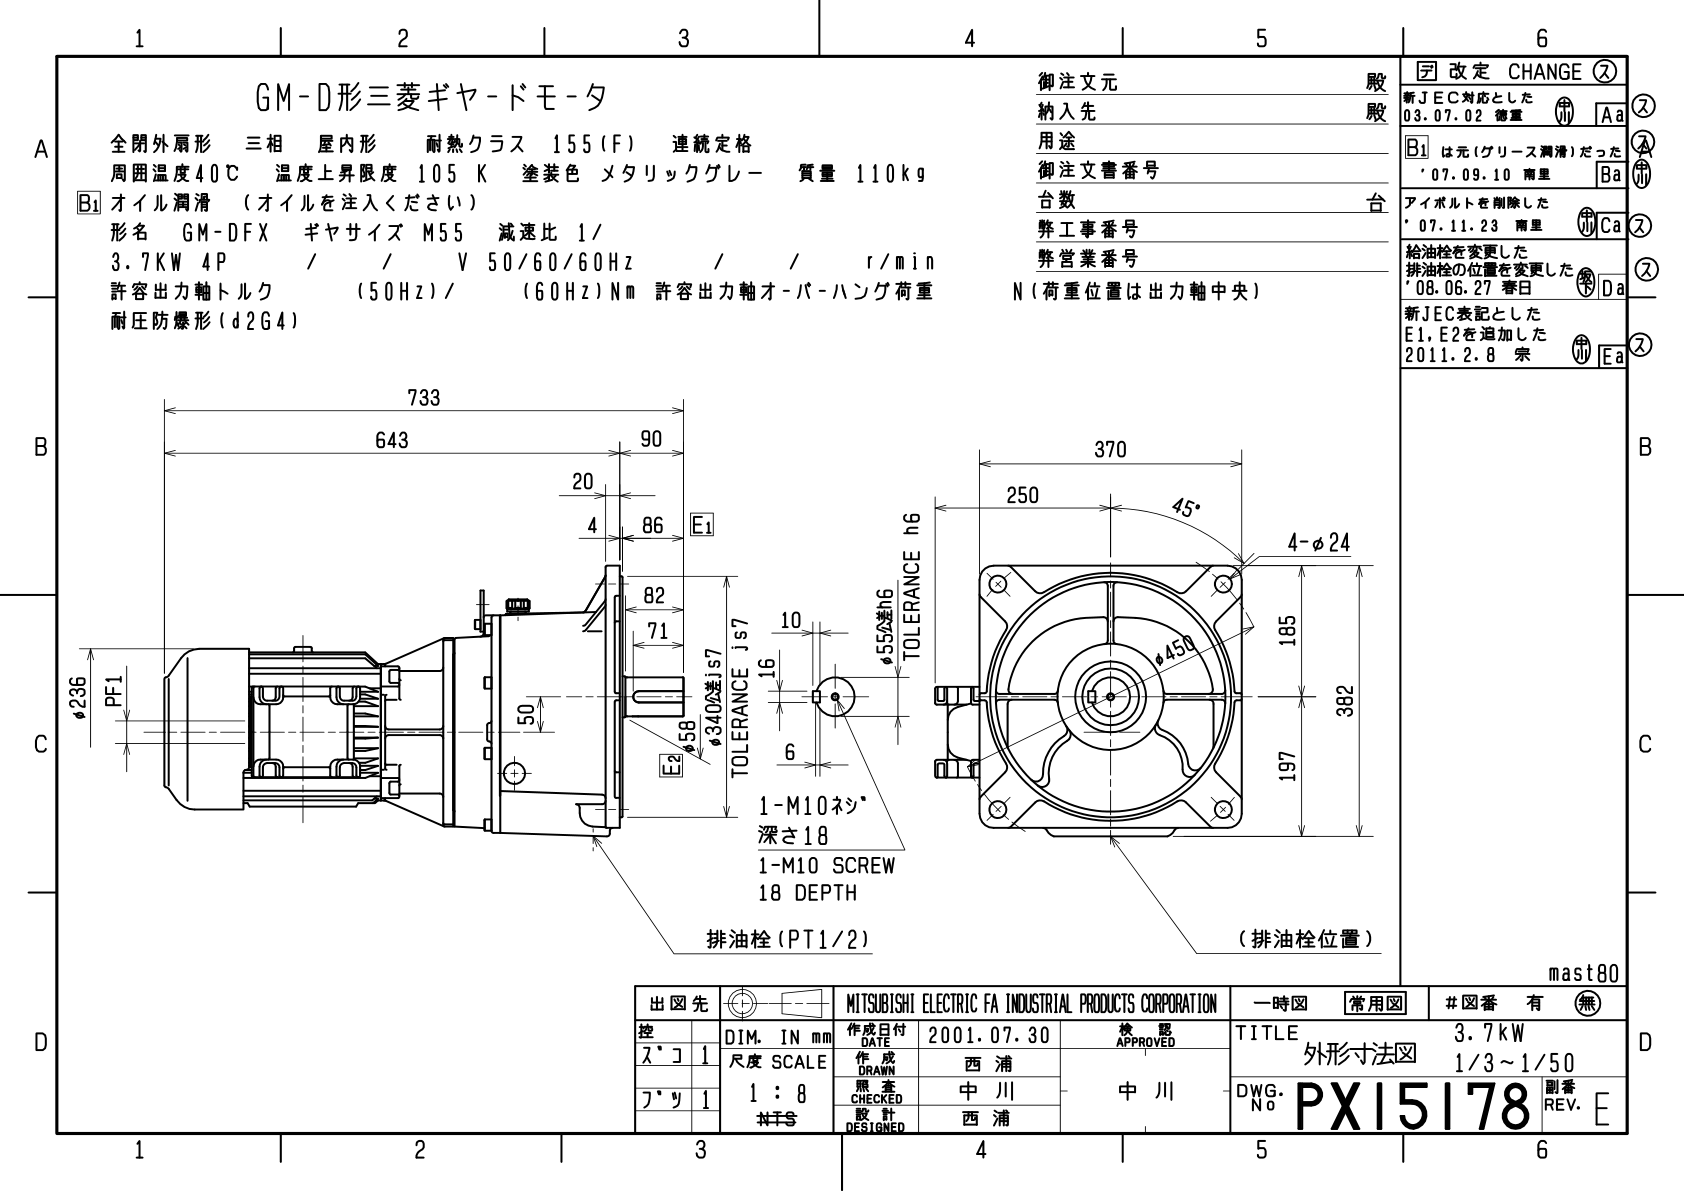GM_SP_屋内＿三相_フランジ: (64, 361, 1393, 971)
